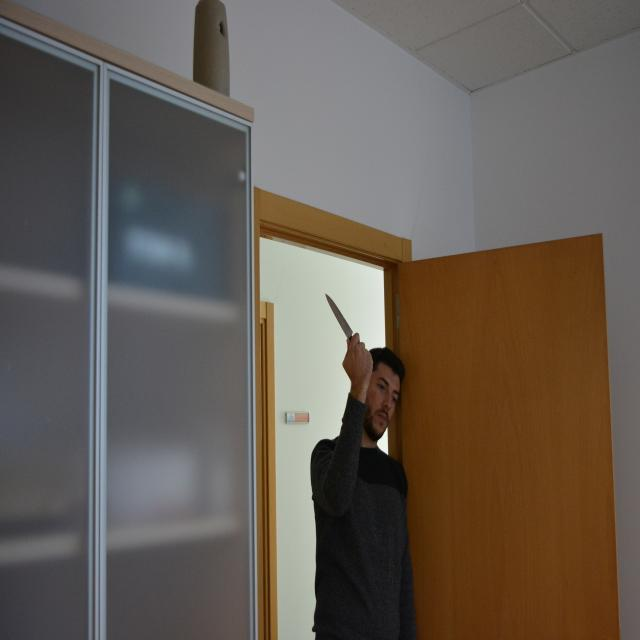knife: (321, 284, 358, 347)
